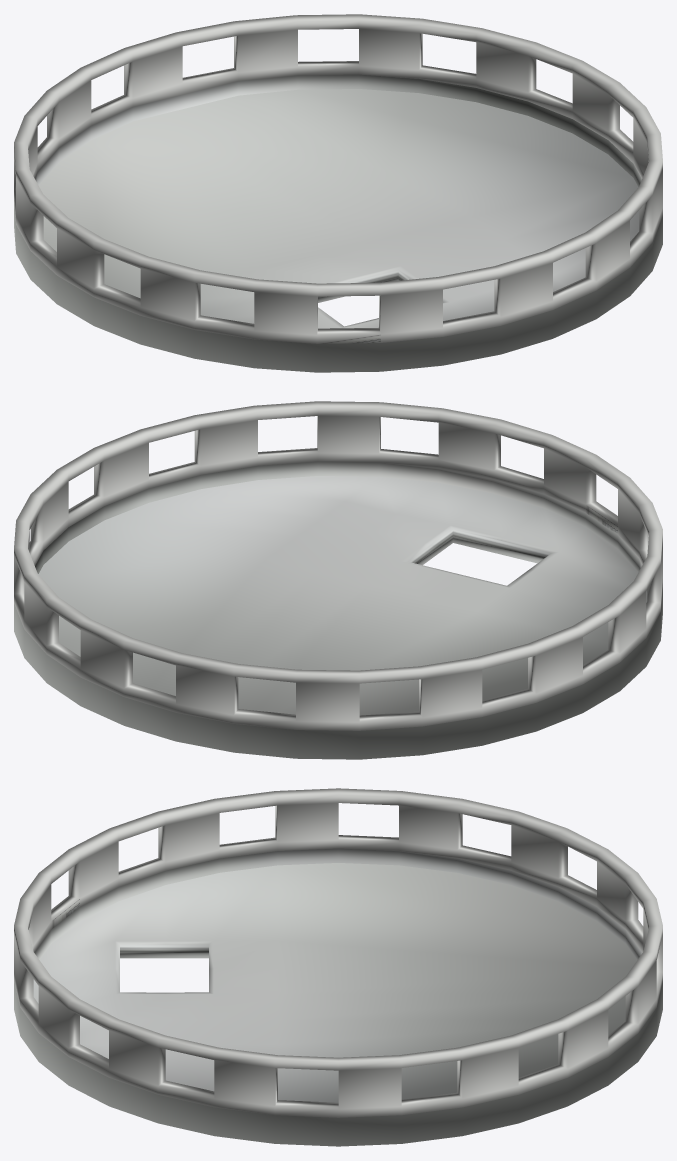
The model's file is balcon_0.2.fbx.
3 views of the same model, one above another, from view 1: azimuth 30°, elevation 25°; view 2: azimuth 150°, elevation 25°; view 3: azimuth 270°, elevation 25° (orthographic).
Parts seen in each view (by area): view 1: balcon; view 2: balcon; view 3: balcon.
Part boxes in pixels (x1=…): balcon: x1=14, y1=14, x2=662, y2=372; balcon: x1=14, y1=401, x2=662, y2=759; balcon: x1=14, y1=788, x2=662, y2=1146.
Bounding box in the file's own units: 7256 × 1036 × 7256.
